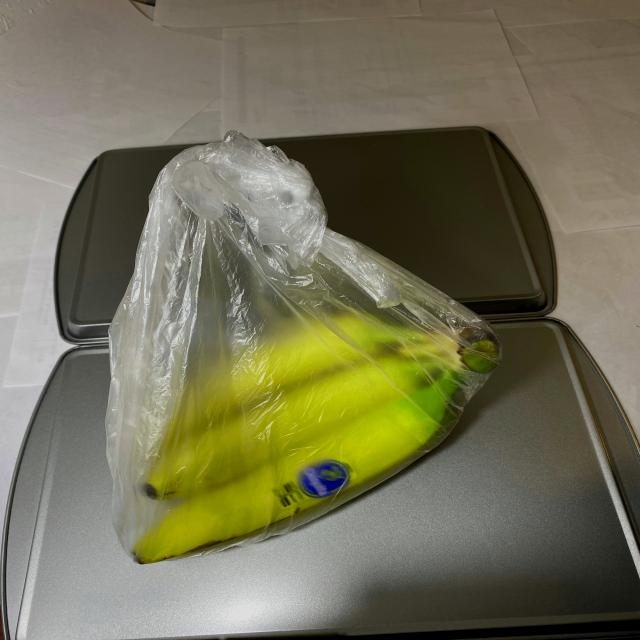banana: (97, 263, 529, 576)
